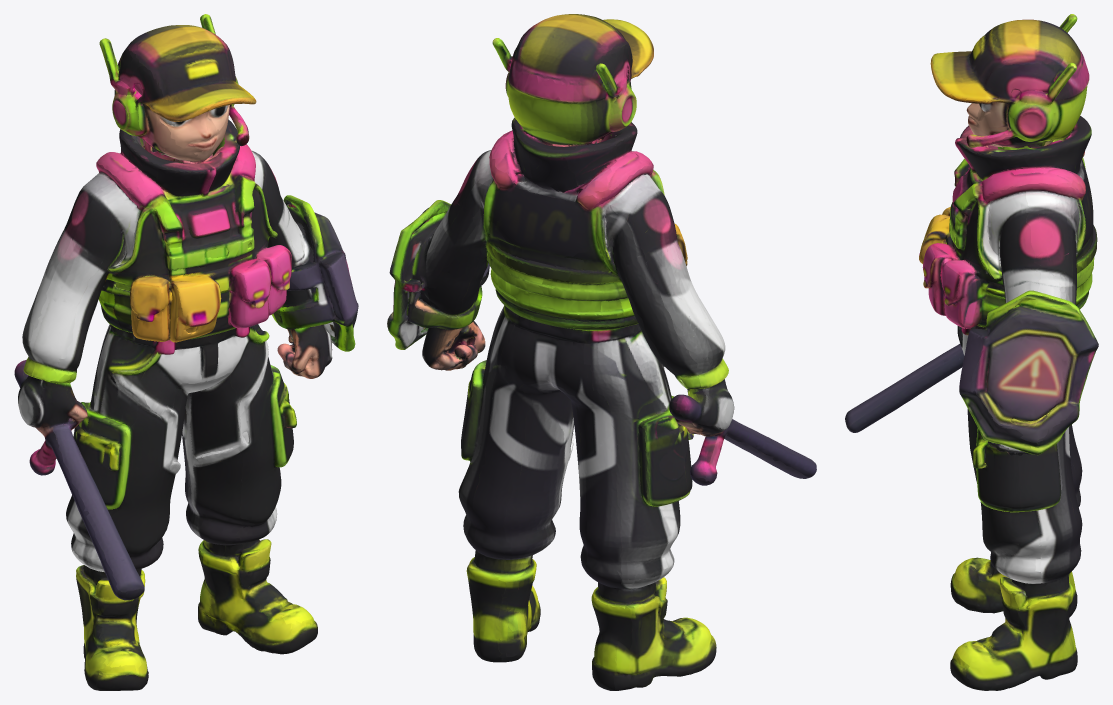
Rendered from u_chr_guard.glb.
3 views of the same model, side by side, from view 1: azimuth 30°, elevation 25°; view 2: azimuth 150°, elevation 25°; view 3: azimuth 270°, elevation 25° (orthographic). The views are drawn at different scales.
Parts seen in each view (by area): view 1: geometry_0; view 2: geometry_0; view 3: geometry_0.
Boxes of the visible parts, <box> form: geometry_0: <box>14,14,358,690</box>; geometry_0: <box>387,14,816,690</box>; geometry_0: <box>845,14,1098,690</box>.
Bounding box in the file's own units: 0.0969 × 0.18 × 0.0677.
Materials: 1 (1 with a texture image).
